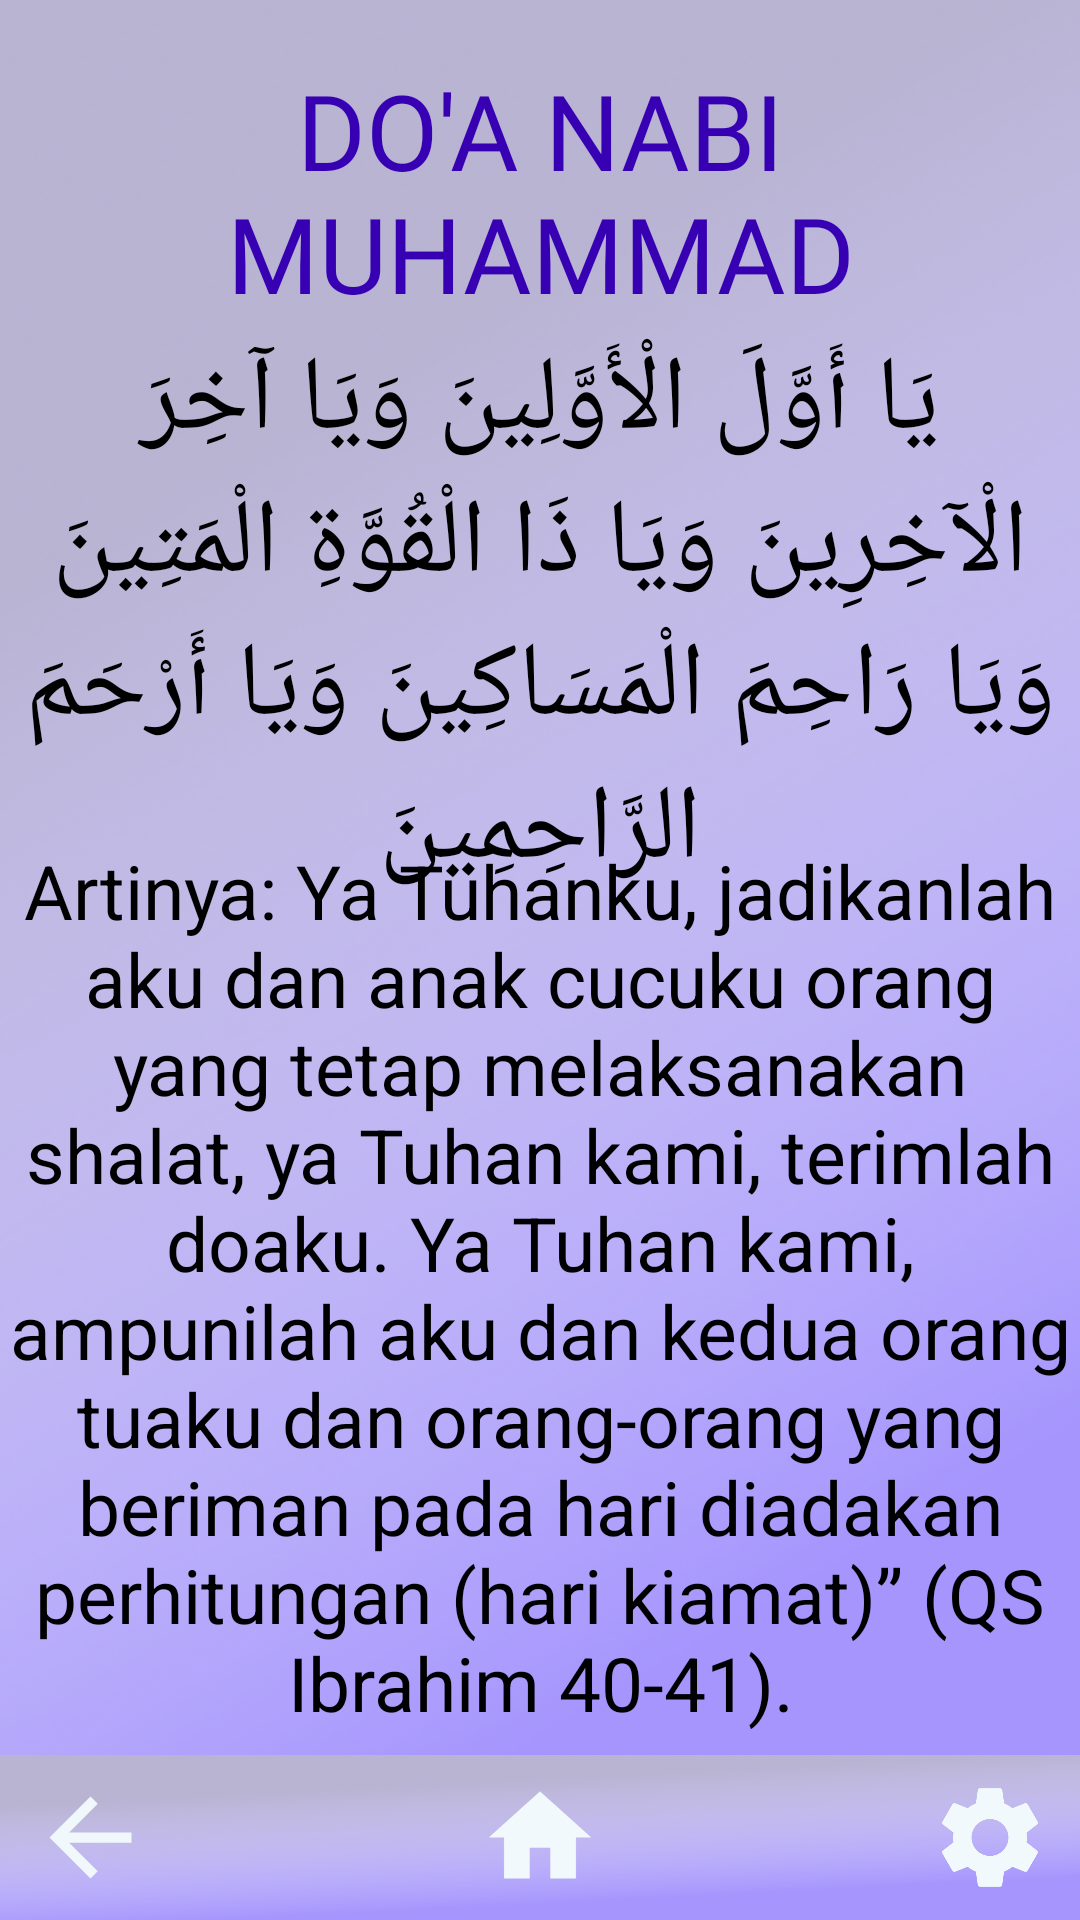

Where to tap for icons on this 1080×1920 app screen, as point (x, y):
arrow back: point (90, 1837)
home: point (540, 1837)
settings: point (990, 1837)
